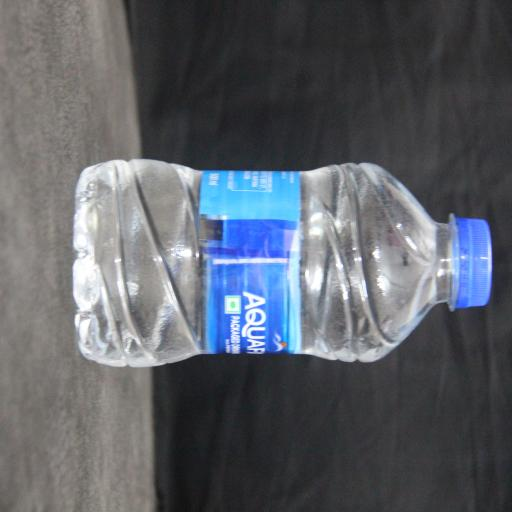Aquafina: (90, 12, 265, 512)
